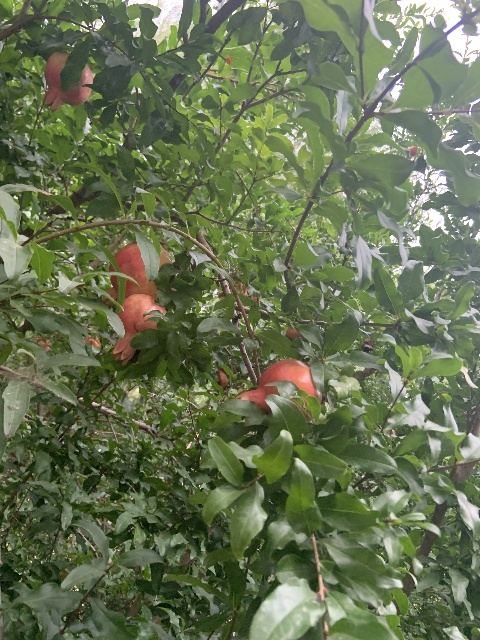ripe: (236, 359, 322, 411), (102, 242, 171, 306), (110, 293, 166, 364), (42, 51, 93, 112)
